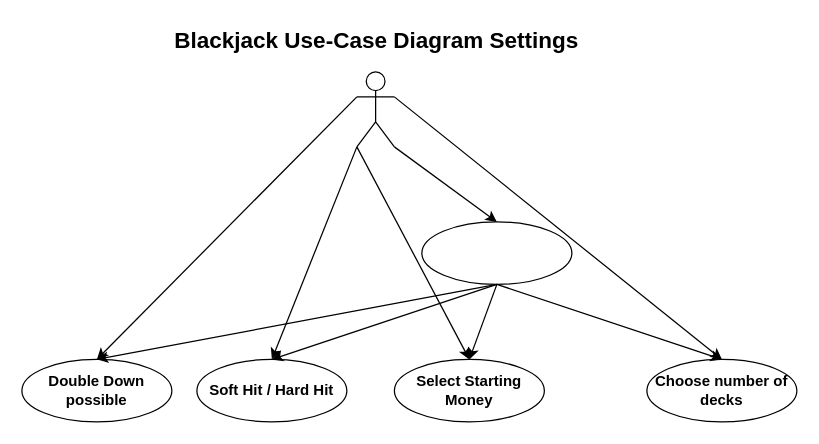
Image size: 819x444. Some labels were removed from this diagram. The shapes that lost their labels are listed below. From the top down, each one's centre as x and y in pixels, then its label:
At (x=375, y=109): "Player".
At (x=496, y=252): "Settings".
